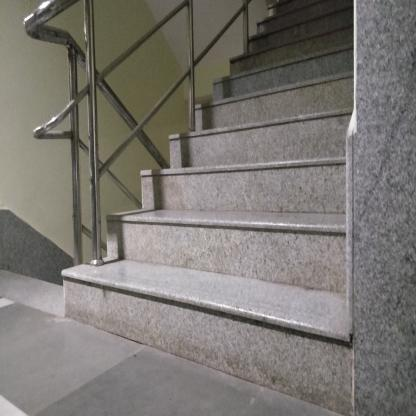stairs: (171, 132, 345, 393)
